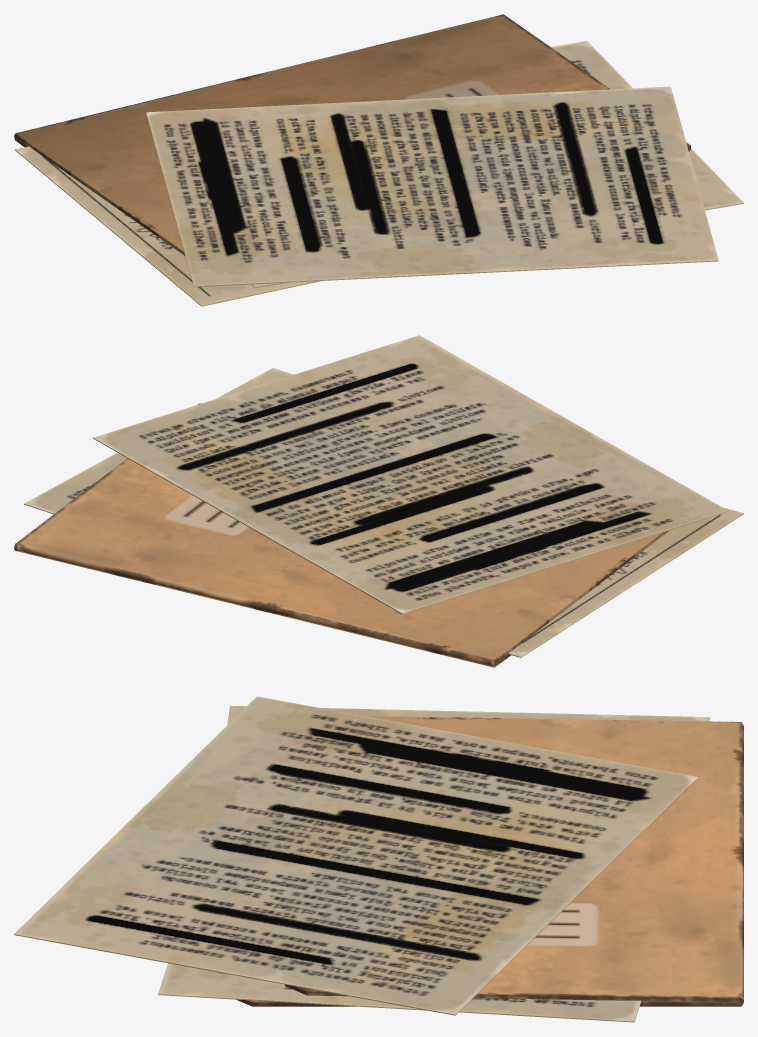
Rendered from fileFolder01_C.fbx.
3 renders of one model, top to bottom at view 1: azimuth 30°, elevation 25°; view 2: azimuth 150°, elevation 25°; view 3: azimuth 270°, elevation 25°, orthographic. The views are drawn at different scales.
Parts seen in each view (by area): view 1: fileFolder01_C; view 2: fileFolder01_C; view 3: fileFolder01_C.
Boxes of the visible parts, <box> form: fileFolder01_C: <box>14,14,743,306</box>; fileFolder01_C: <box>14,335,743,667</box>; fileFolder01_C: <box>14,696,743,1022</box>.
Size of the model in its own units: 34.54 by 0.8322 by 33.24.
